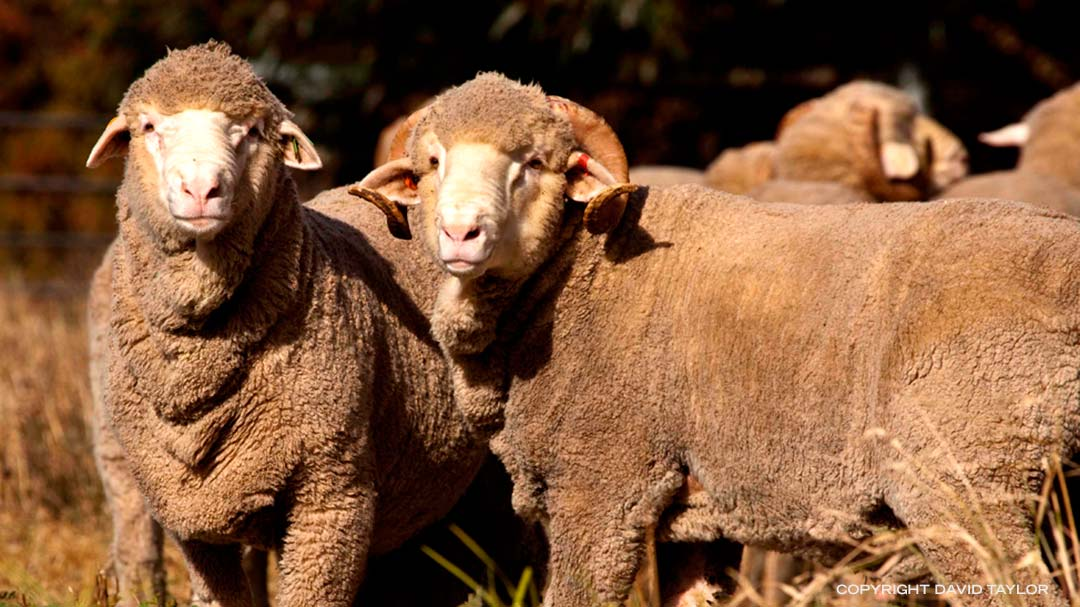sheep: (375, 70, 1080, 603), (70, 33, 483, 607)
